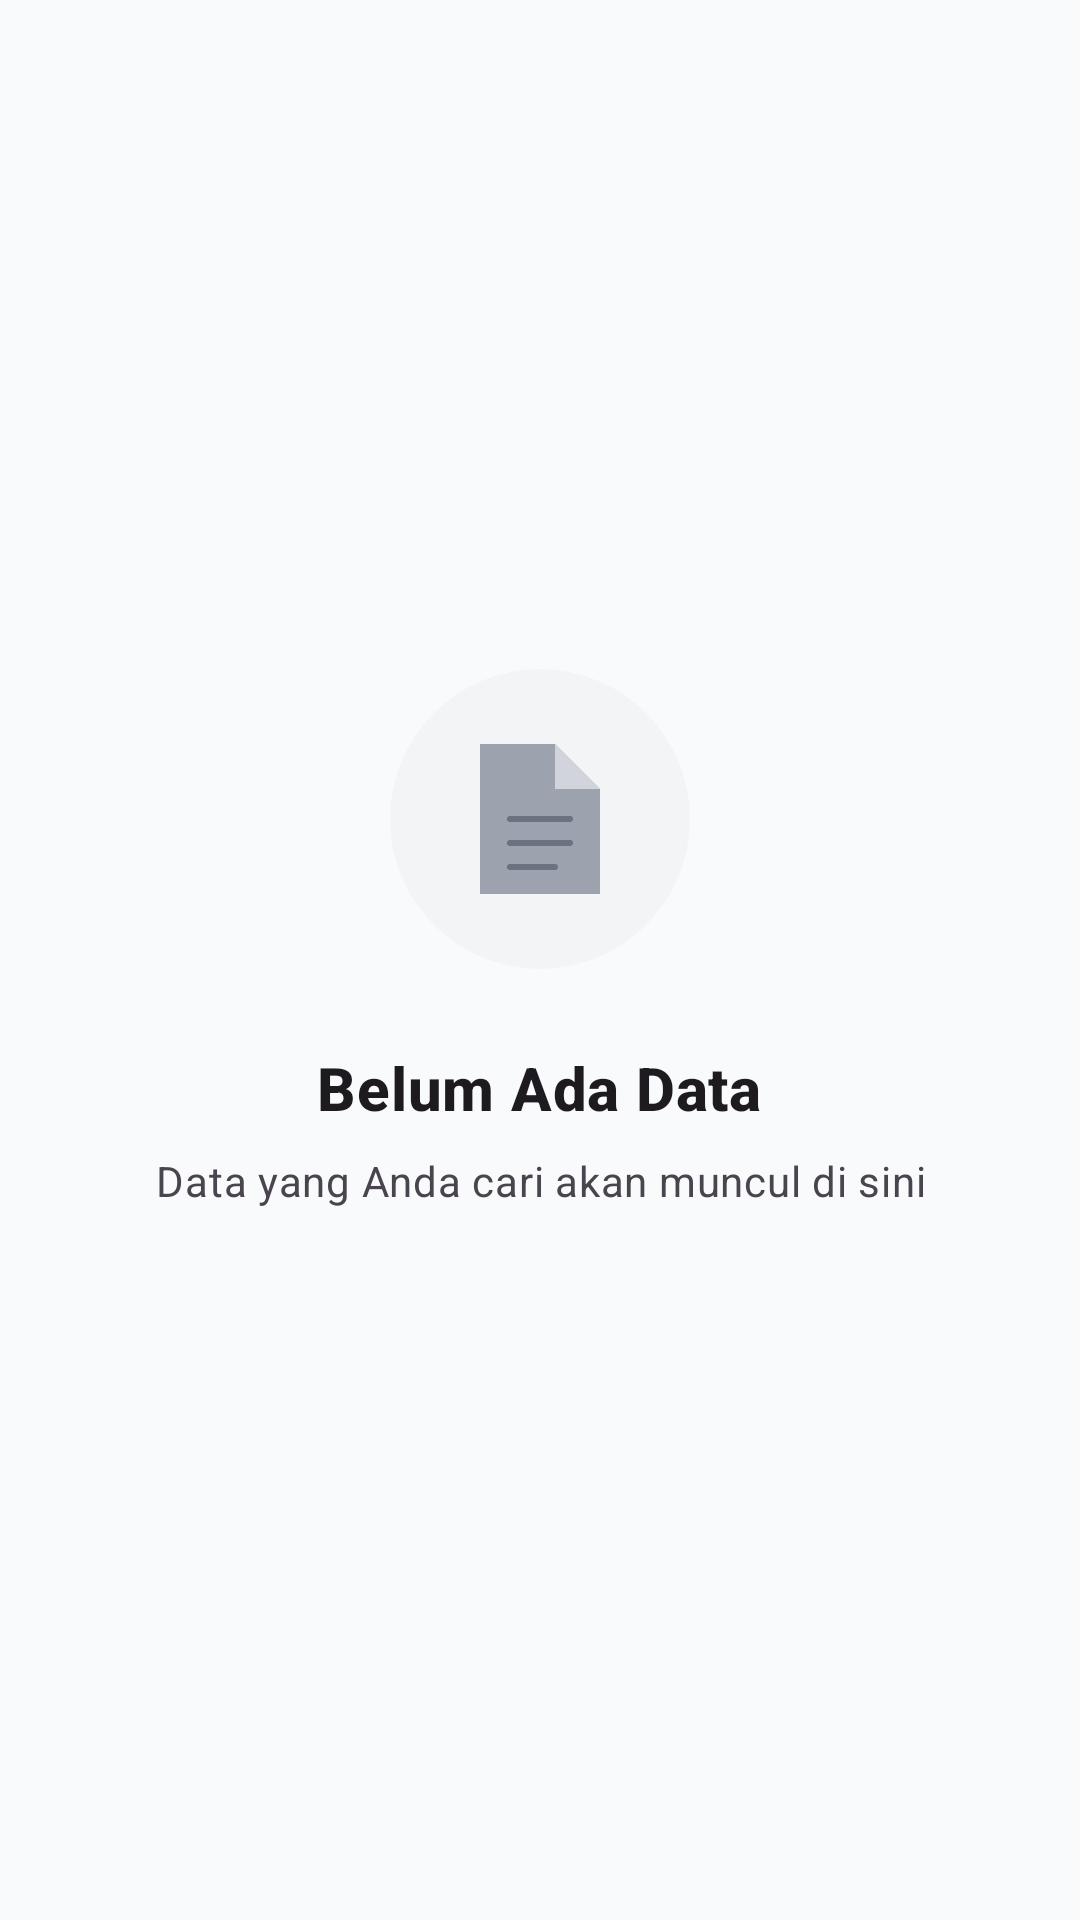

Where icons sit on this 1080w x 1920h app screen, as bbox=(x1, y1, x2, y2):
Empty State: bbox=(480, 744, 600, 894)
